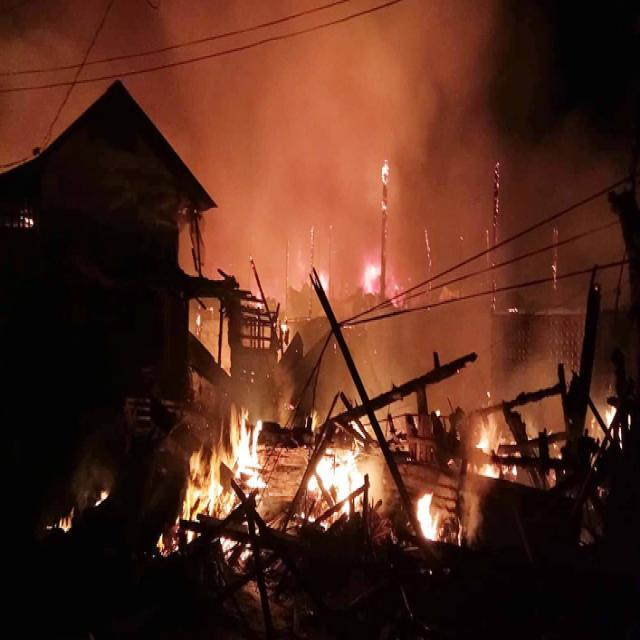Fire: (185, 432, 288, 533), (314, 446, 380, 528), (410, 480, 450, 565), (484, 416, 519, 501)
Smoke: (176, 3, 575, 259)
